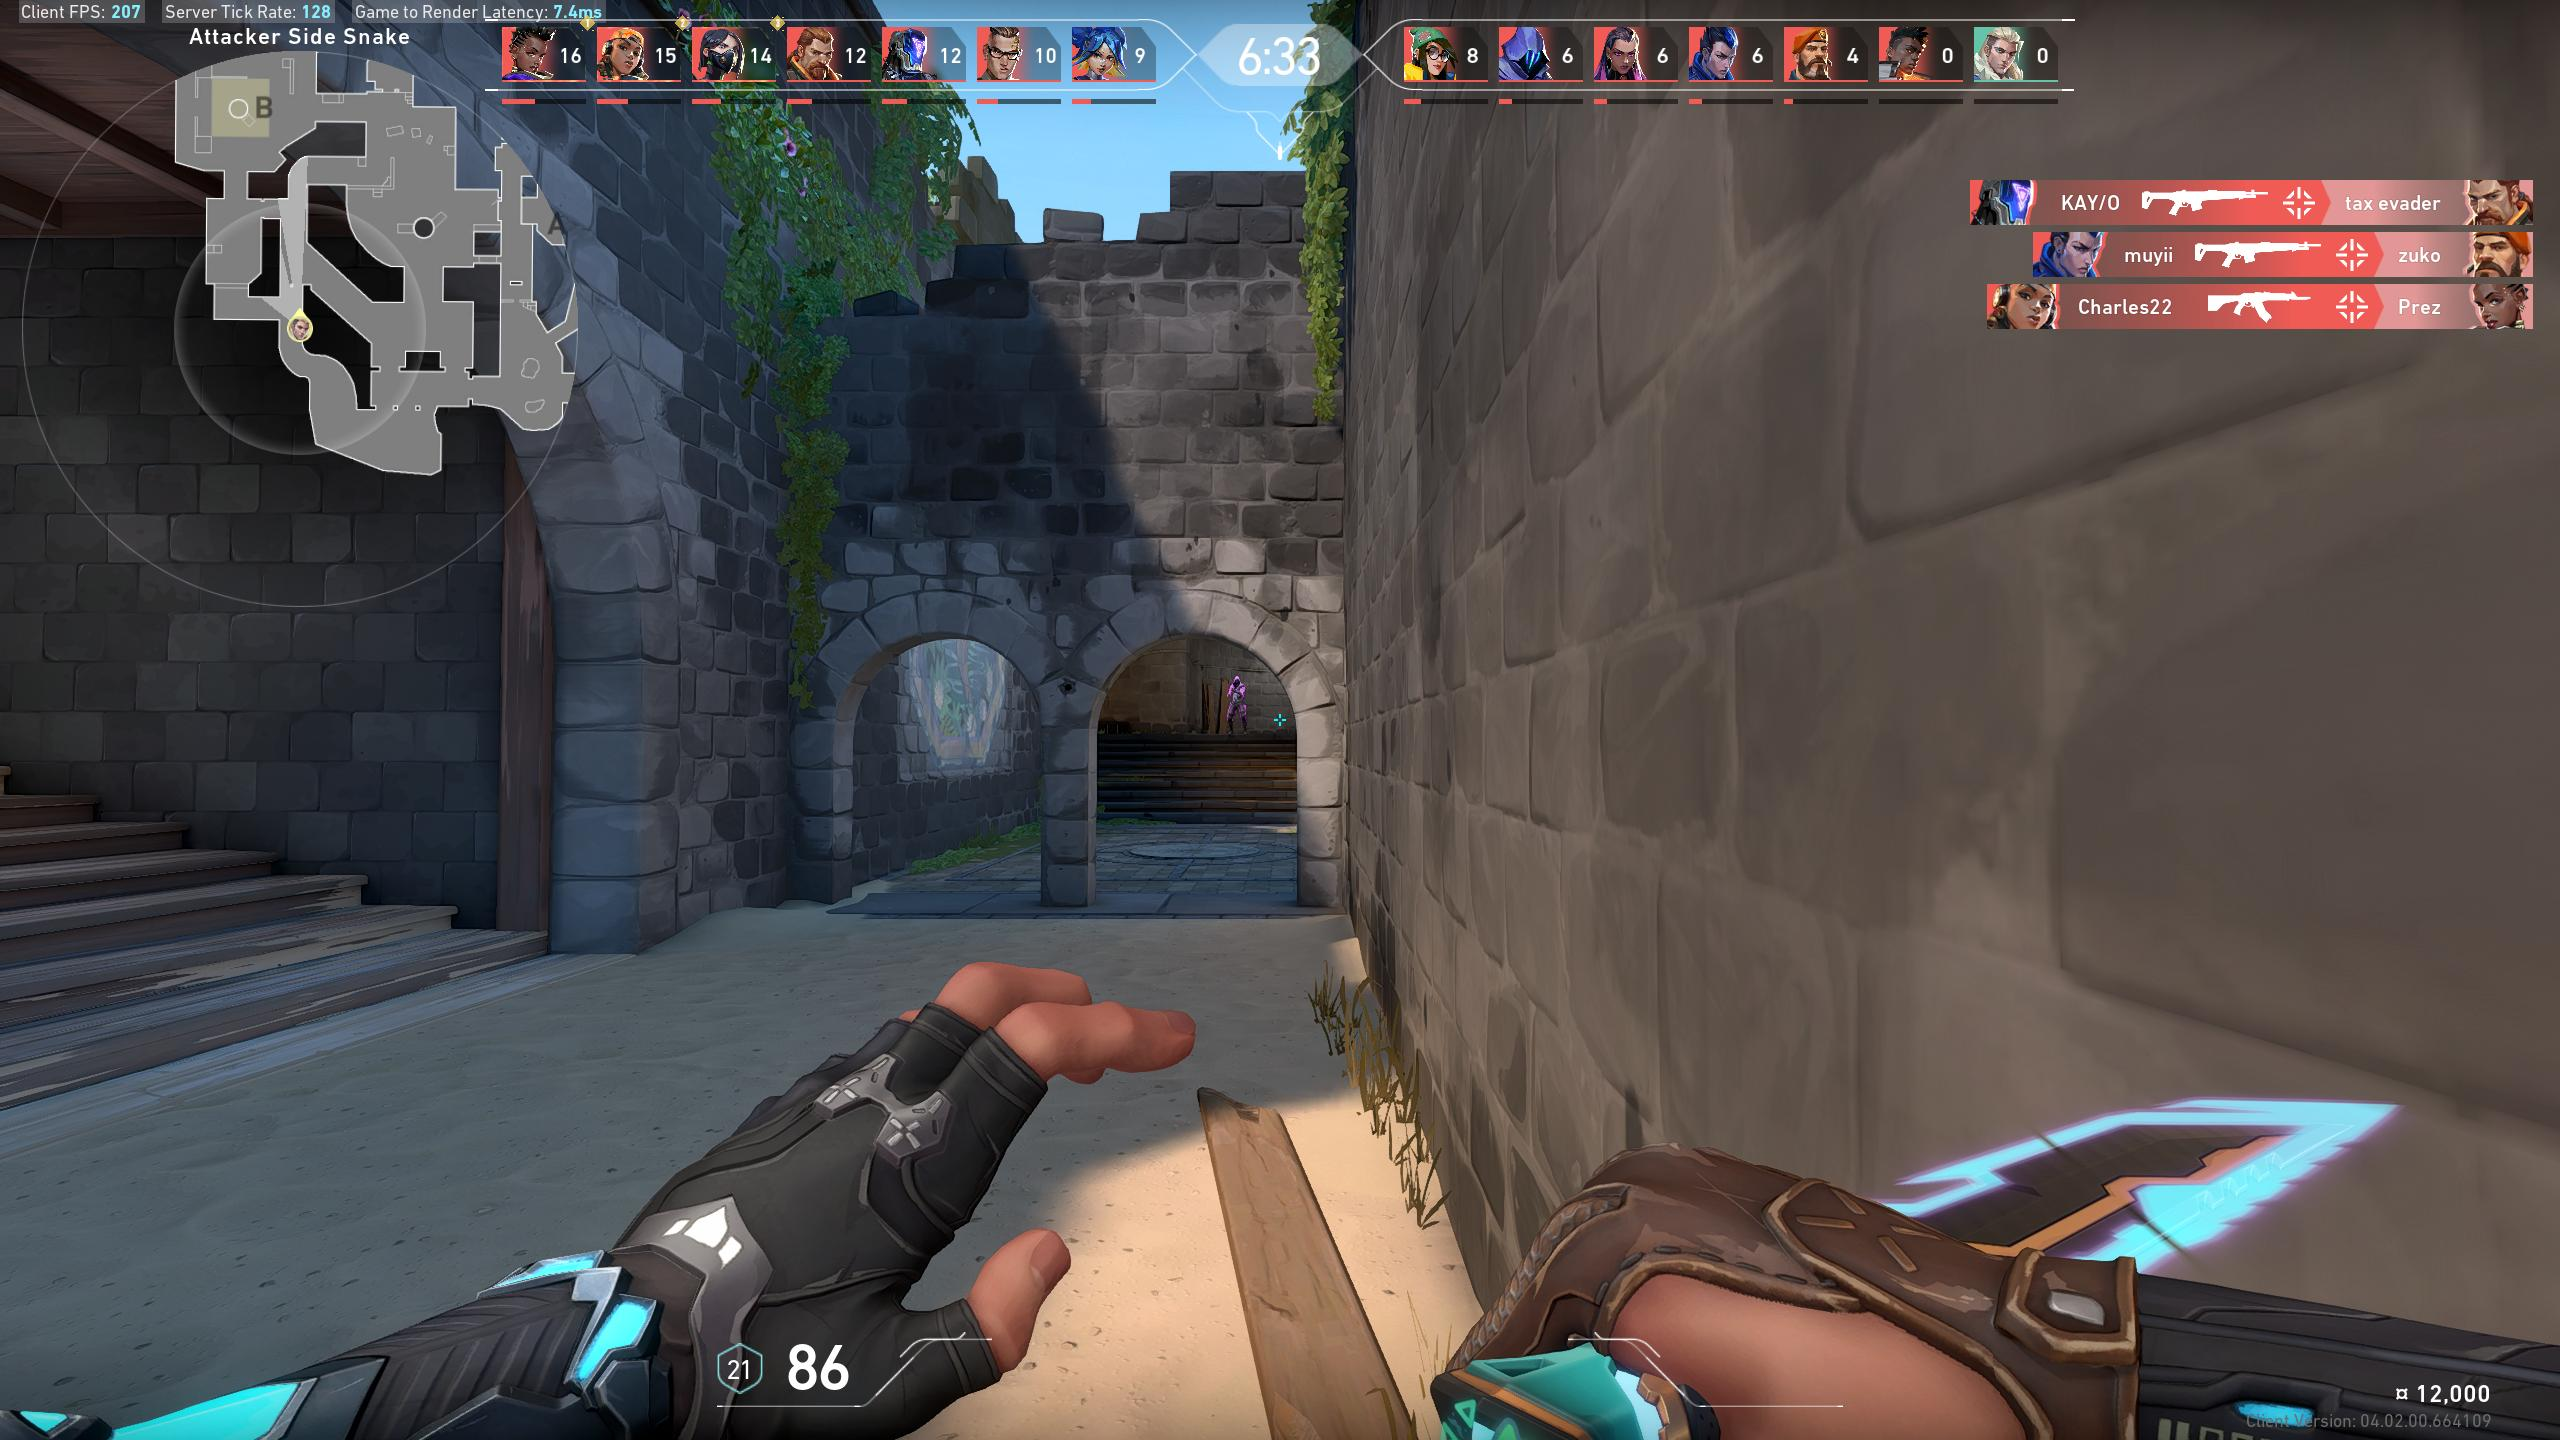enemyBody: (1233, 687, 1240, 702)
enemyHead: (1234, 679, 1240, 686)
